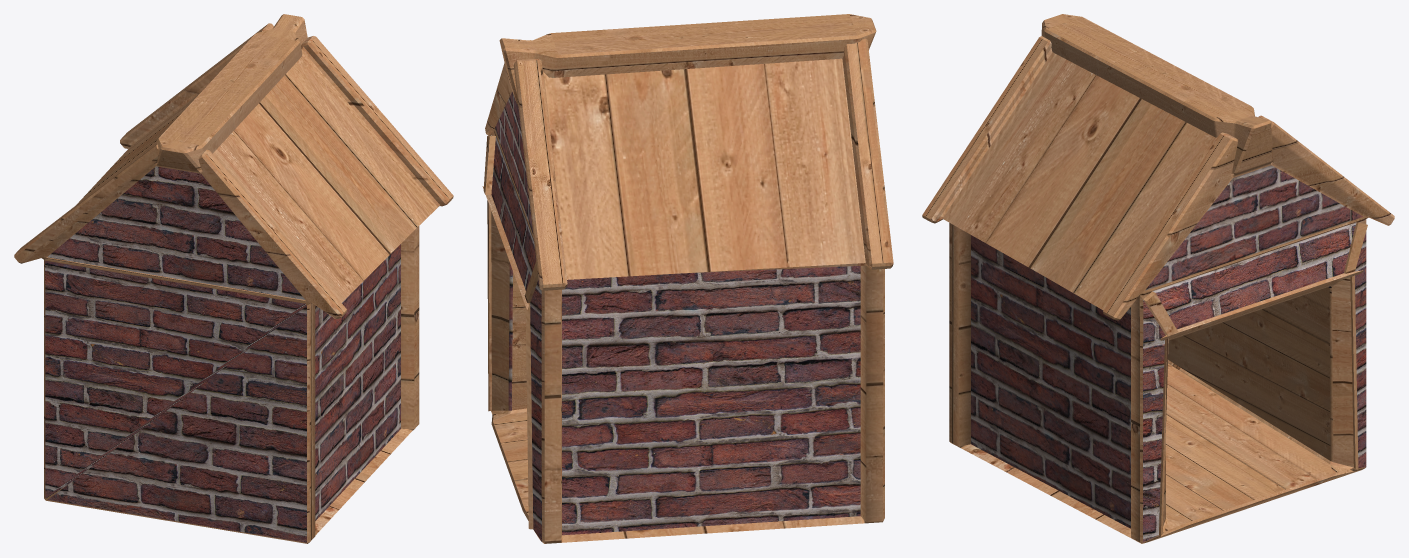
File: kennel.dae
3 renders of one model, left to right at view 1: azimuth 30°, elevation 25°; view 2: azimuth 150°, elevation 25°; view 3: azimuth 270°, elevation 25°, orthographic. The views are drawn at different scales.
Visible parts, largest first — view 1: polySurface38; view 2: polySurface38; view 3: polySurface38.
Boxes of the visible parts, box(x1,y1,x2,y2) form: polySurface38: box(14, 14, 453, 543); polySurface38: box(482, 14, 893, 543); polySurface38: box(922, 14, 1394, 543).
Size of the model in its own units: 8 by 7.34 by 8.09.
